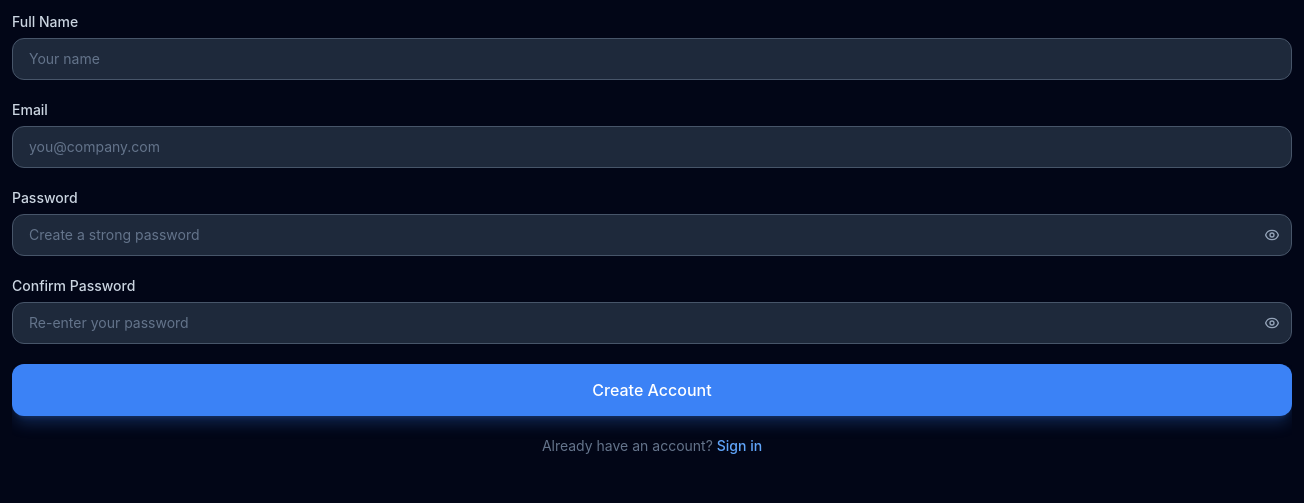
Test: SignupForm › shows strong password strength for complex password
This screenshot has width=1304, height=503.
Type "Abcdef1@#" into the password field labelled "Password" at (652, 235), box [12,214,1292,256]
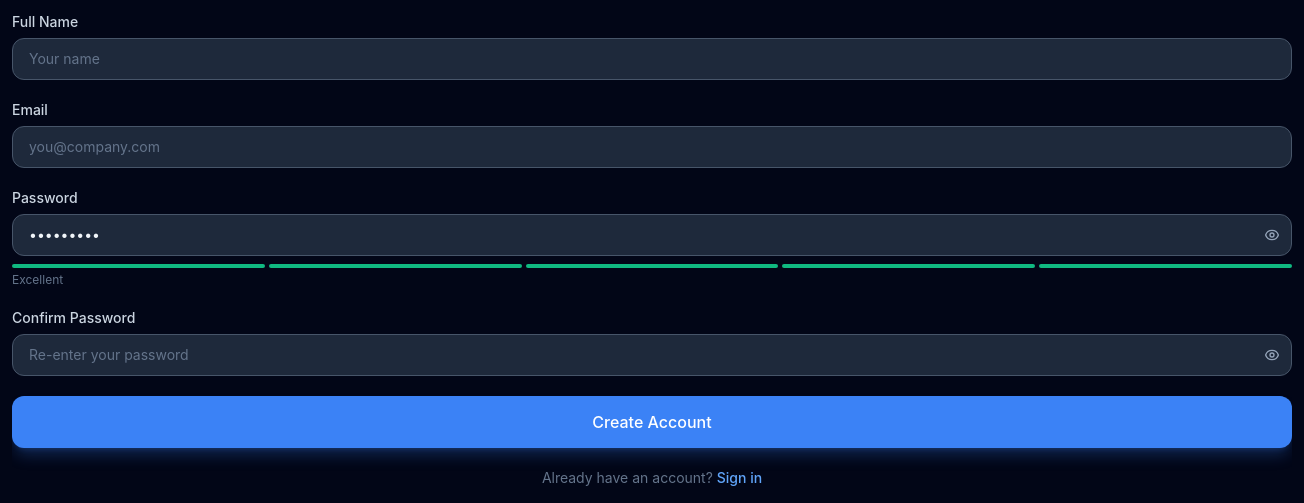
Now the text "Excellent" is shown, box [12,272,63,287]
